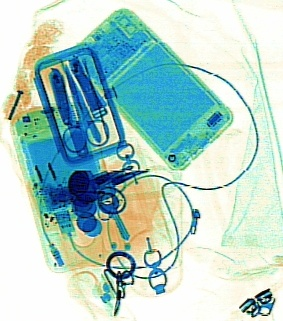scissors: (60, 63, 109, 151)
